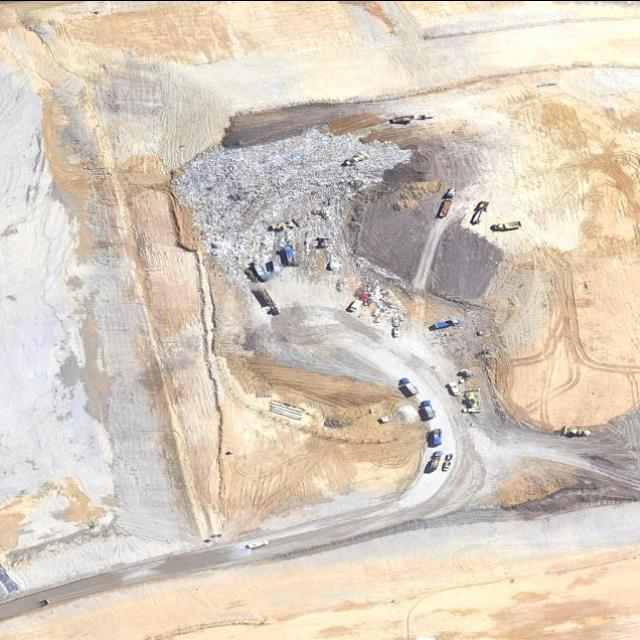dump_site: (158, 100, 460, 295), (319, 250, 430, 340)
